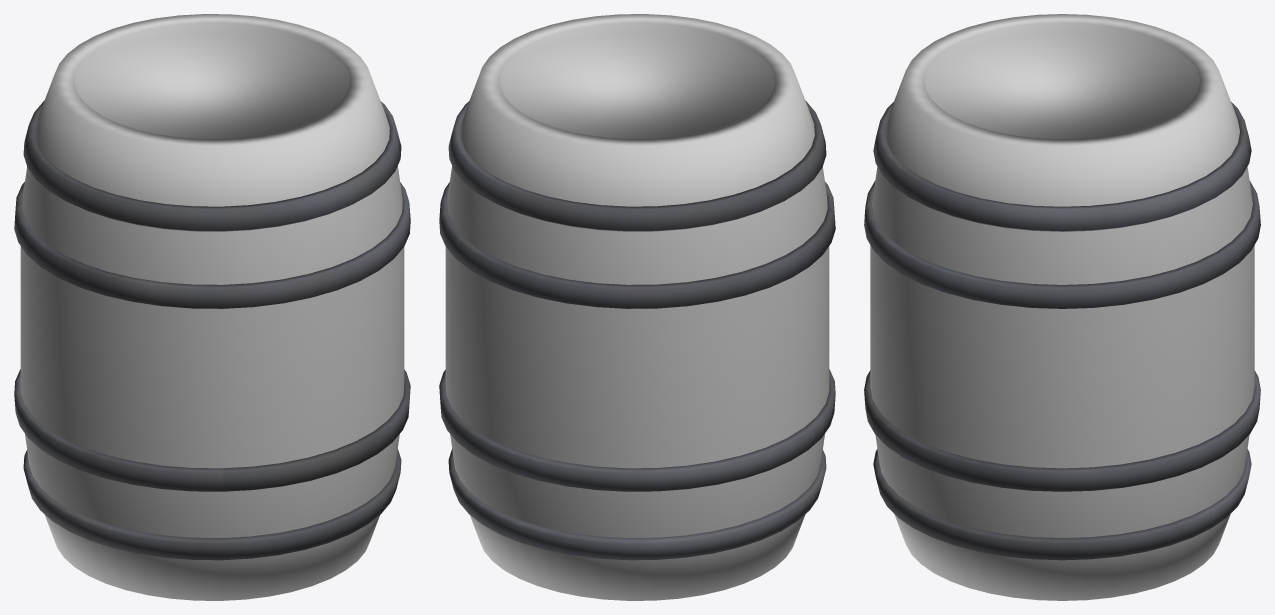
File: Barrel.fbx
3 views of the same model, side by side, from view 1: azimuth 30°, elevation 25°; view 2: azimuth 150°, elevation 25°; view 3: azimuth 270°, elevation 25° (orthographic).
Parts seen in each view (by area): view 1: Barrel, Spines; view 2: Barrel, Spines; view 3: Barrel, Spines.
Boxes of the visible parts, <box> form: Barrel: <box>20,14,404,600</box>; Spines: <box>14,100,410,560</box>; Barrel: <box>445,14,829,600</box>; Spines: <box>439,100,835,560</box>; Barrel: <box>870,14,1254,600</box>; Spines: <box>864,102,1260,560</box>.
Bounding box in the file's own units: 159 × 200 × 159.
